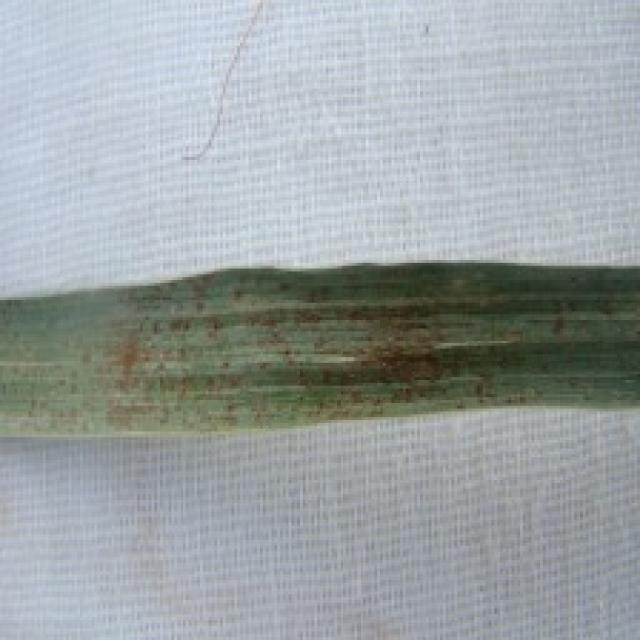Brown_Spot: (341, 336, 452, 390), (303, 292, 432, 336), (102, 317, 154, 387)
